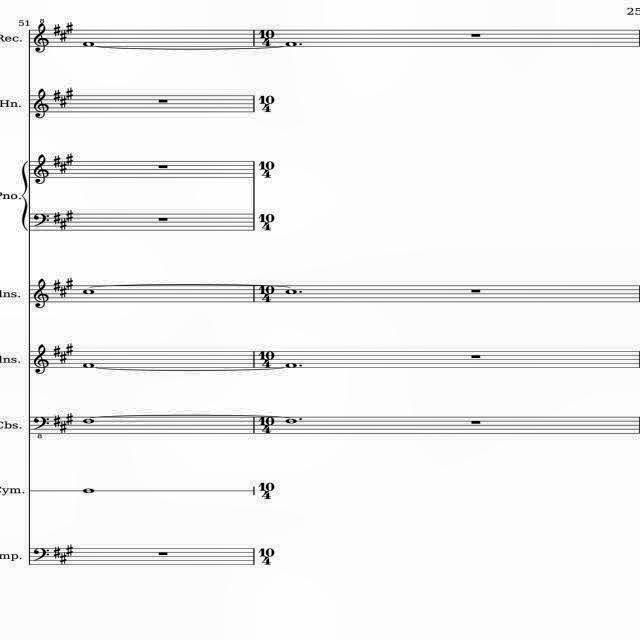Bass-clef: (33, 278, 49, 310), (32, 88, 48, 119), (32, 23, 48, 53), (34, 154, 50, 184), (33, 345, 49, 375)
Diez: (66, 342, 74, 356), (53, 24, 61, 36), (66, 22, 74, 34), (52, 90, 60, 102), (59, 96, 67, 108), (53, 156, 61, 168), (59, 162, 67, 174), (66, 153, 74, 165), (52, 212, 60, 224), (66, 210, 74, 222), (52, 280, 60, 292), (66, 278, 74, 290), (53, 346, 61, 358), (66, 413, 74, 425), (66, 544, 74, 556), (59, 352, 67, 363), (59, 218, 66, 230), (61, 552, 68, 564), (60, 30, 66, 42), (67, 88, 73, 100), (60, 286, 66, 298), (54, 415, 60, 427), (60, 422, 66, 434), (54, 546, 60, 558)
Full-note: (82, 418, 94, 424), (286, 418, 298, 424), (284, 42, 298, 46), (82, 290, 95, 294), (82, 364, 95, 368), (82, 488, 95, 492), (82, 42, 94, 46), (285, 290, 297, 294), (285, 364, 297, 368)
